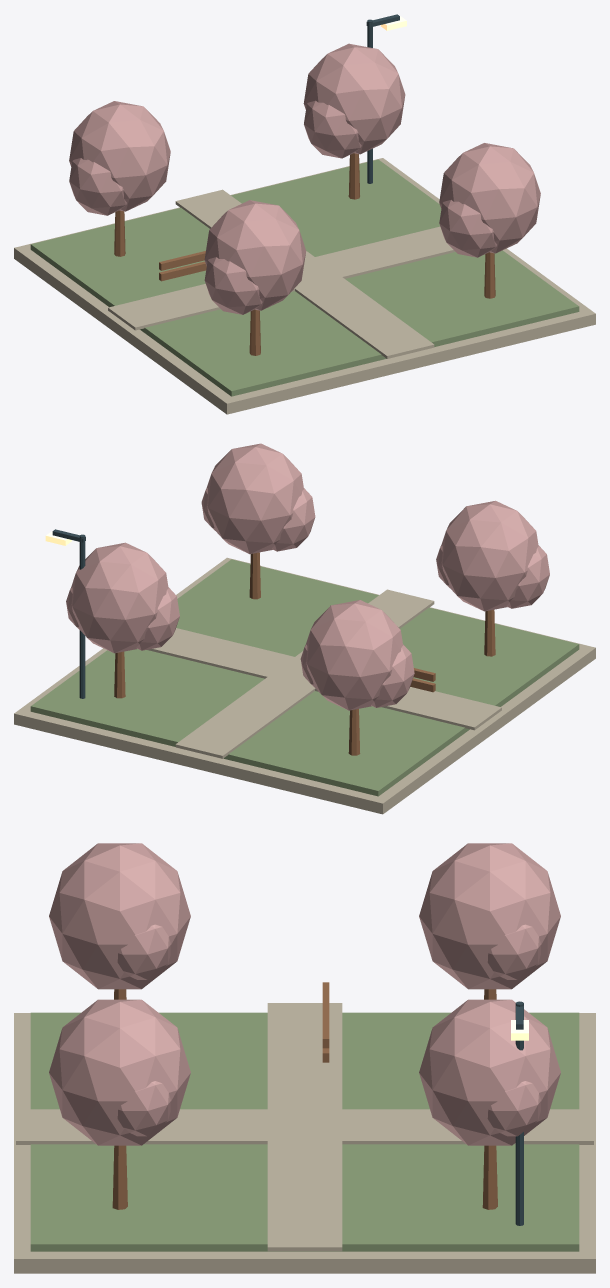
Rendered from park_lod.glb.
The picture shows the model from 3 angles, top to bottom: view 1: azimuth 30°, elevation 25°; view 2: azimuth 150°, elevation 25°; view 3: azimuth 270°, elevation 25°; orthographic projection. The views are drawn at different scales.
Visible parts, largest first — view 1: park_Garden_Lawn, park_Site_Paving, park_Tree_Crown.009, park_Tree_Crown, park_Tree_Crown.003, park_Tree_Crown.006, park_Garden_Walk_X, park_Garden_Walk_Z, park_Tree_Crown.007, park_Tree_Crown.004, park_Tree_Crown.010, park_Tree_Crown.001; view 2: park_Garden_Lawn, park_Site_Paving, park_Tree_Crown.003, park_Tree_Crown, park_Tree_Crown.006, park_Tree_Crown.009, park_Garden_Walk_X, park_Garden_Walk_Z, park_Tree_Crown.004, park_Tree_Crown.007, park_Tree_Crown.010, park_Tree_Crown.001 (+5 smaller); view 3: park_Garden_Lawn, park_Site_Paving, park_Garden_Walk_X, park_Tree_Crown.003, park_Tree_Crown.006, park_Tree_Crown, park_Garden_Walk_Z, park_Tree_Crown.009, park_Tree_Crown.005, park_Tree_Crown.008, park_Tree_Crown.011, park_Tree_Crown.002 (+3 smaller).
Part boxes in pixels (left/top/right/bottom): park_Garden_Lawn: left=30, top=159, right=579, bottom=396; park_Site_Paving: left=14, top=158, right=595, bottom=414; park_Tree_Crown.009: left=303, top=43, right=405, bottom=154; park_Tree_Crown: left=69, top=101, right=170, bottom=211; park_Tree_Crown.003: left=439, top=143, right=540, bottom=253; park_Tree_Crown.006: left=204, top=200, right=306, bottom=310; park_Garden_Walk_X: left=108, top=226, right=455, bottom=330; park_Garden_Walk_Z: left=175, top=189, right=434, bottom=358; park_Tree_Crown.007: left=204, top=257, right=262, bottom=314; park_Tree_Crown.004: left=439, top=200, right=497, bottom=257; park_Tree_Crown.010: left=304, top=100, right=361, bottom=158; park_Tree_Crown.001: left=69, top=158, right=127, bottom=215; park_Garden_Lawn: left=30, top=559, right=579, bottom=796; park_Site_Paving: left=14, top=557, right=595, bottom=814; park_Tree_Crown.003: left=206, top=443, right=303, bottom=554; park_Tree_Crown: left=306, top=600, right=403, bottom=710; park_Tree_Crown.006: left=441, top=500, right=538, bottom=611; park_Tree_Crown.009: left=71, top=542, right=168, bottom=653; park_Garden_Walk_X: left=147, top=628, right=501, bottom=730; park_Garden_Walk_Z: left=175, top=589, right=434, bottom=758; park_Tree_Crown.004: left=272, top=488, right=315, bottom=551; park_Tree_Crown.007: left=506, top=545, right=549, bottom=608; park_Tree_Crown.010: left=136, top=587, right=179, bottom=650; park_Tree_Crown.001: left=371, top=644, right=414, bottom=707; park_Garden_Lawn: left=30, top=1012, right=579, bottom=1251; park_Site_Paving: left=14, top=1013, right=595, bottom=1273; park_Garden_Walk_X: left=267, top=1003, right=342, bottom=1251; park_Tree_Crown.003: left=49, top=999, right=190, bottom=1145; park_Tree_Crown.006: left=49, top=843, right=190, bottom=989; park_Tree_Crown: left=419, top=843, right=560, bottom=989; park_Garden_Walk_Z: left=16, top=1109, right=593, bottom=1144; park_Tree_Crown.009: left=419, top=999, right=560, bottom=1145; park_Tree_Crown.005: left=117, top=1081, right=170, bottom=1136; park_Tree_Crown.008: left=117, top=924, right=170, bottom=979; park_Tree_Crown.011: left=487, top=1081, right=540, bottom=1136; park_Tree_Crown.002: left=487, top=924, right=540, bottom=979.
Bounding box in the file's own units: 7.8 × 3.6 × 7.8.
